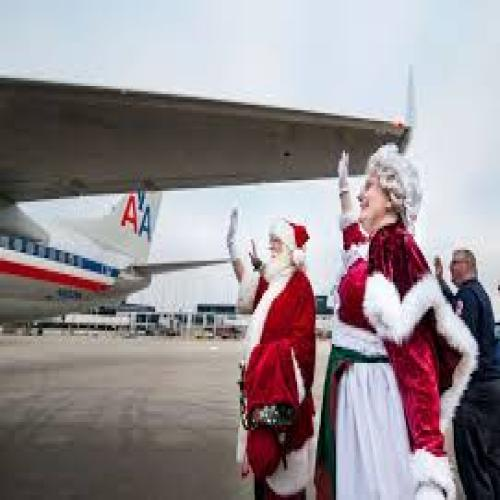Santa: (225, 205, 319, 500)
